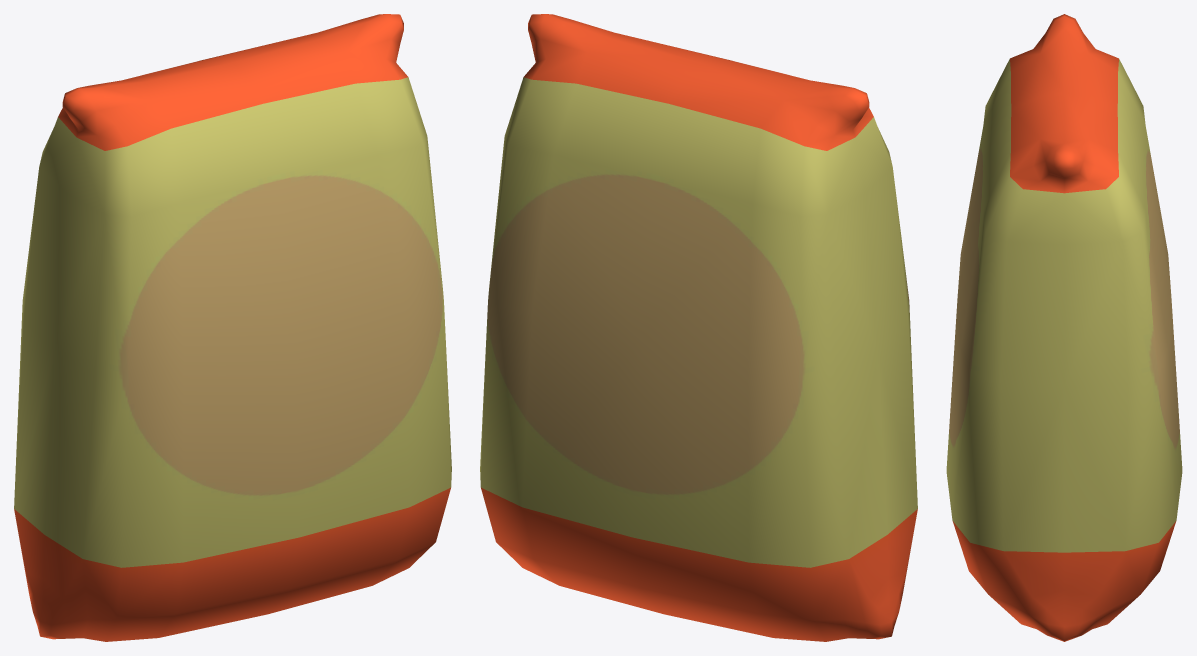
The model's file is MightySeeds.fbx.
3 views of the same model, side by side, from view 1: azimuth 30°, elevation 25°; view 2: azimuth 150°, elevation 25°; view 3: azimuth 270°, elevation 25° (orthographic). The views are drawn at different scales.
Parts seen in each view (by area): view 1: BagOfStuff; view 2: BagOfStuff; view 3: BagOfStuff.
Part boxes in pixels (bbox=[...]): BagOfStuff: bbox=[14, 14, 451, 641]; BagOfStuff: bbox=[480, 14, 917, 641]; BagOfStuff: bbox=[946, 14, 1182, 641].
Bounding box in the file's own units: 0.6883 × 0.9522 × 0.4158.
